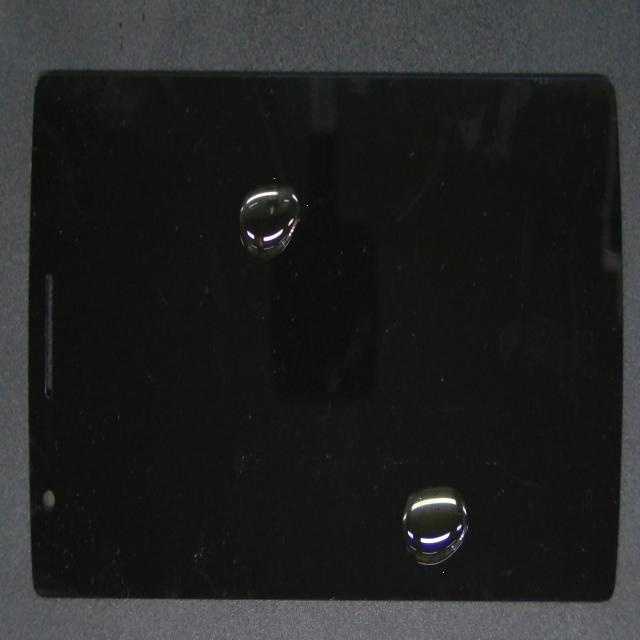oil: (204, 216, 611, 640), (119, 88, 358, 314)
